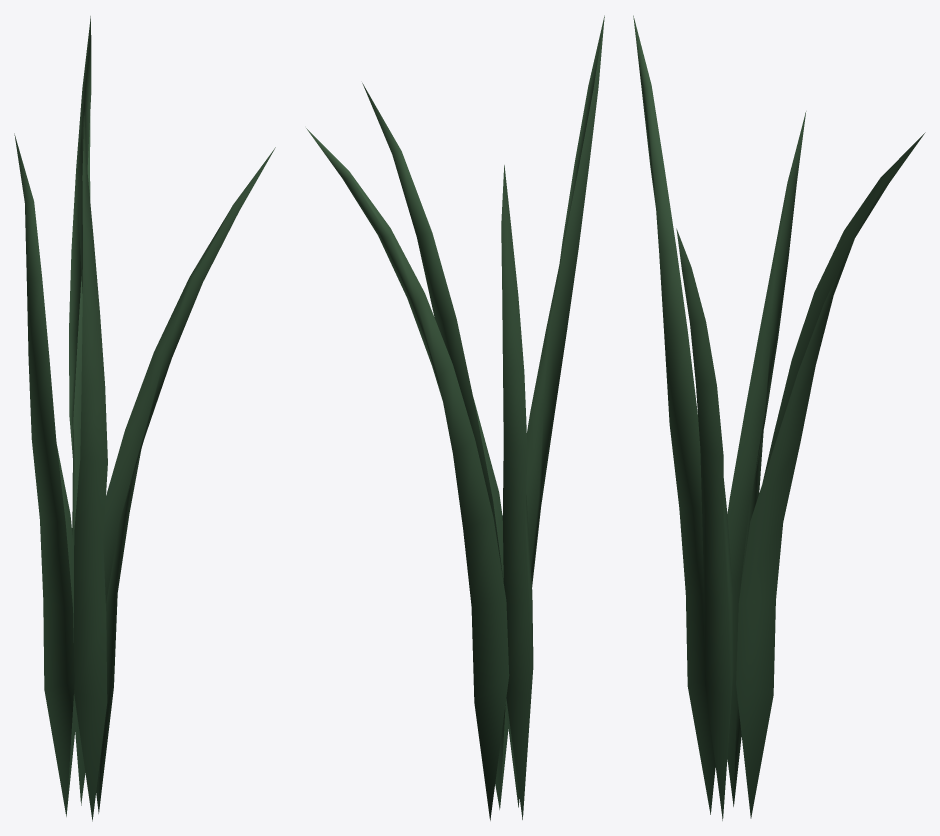
The model's file is trees-grasses-grass-blades_v15.glb.
3 renders of one model, left to right at view 1: azimuth 30°, elevation 25°; view 2: azimuth 150°, elevation 25°; view 3: azimuth 270°, elevation 25°, orthographic. The views are drawn at different scales.
Visible parts, largest first — view 1: Grass Blades_v15; view 2: Grass Blades_v15; view 3: Grass Blades_v15.
Boxes of the visible parts, x1=… form: Grass Blades_v15: x1=14, y1=16, x2=275, y2=821; Grass Blades_v15: x1=306, y1=15, x2=604, y2=820; Grass Blades_v15: x1=633, y1=15, x2=925, y2=820.
Bounding box in the file's own units: 0.0894 × 0.3 × 0.1022.
